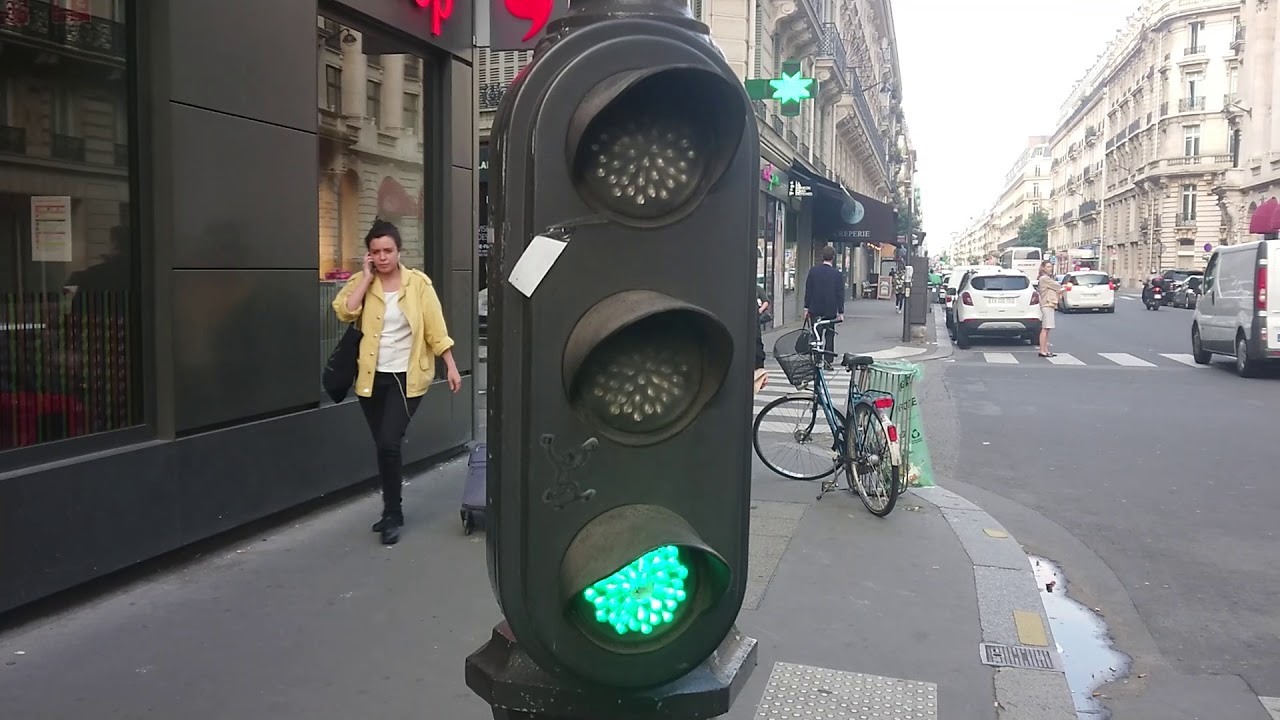trafficLight: (487, 9, 769, 694)
